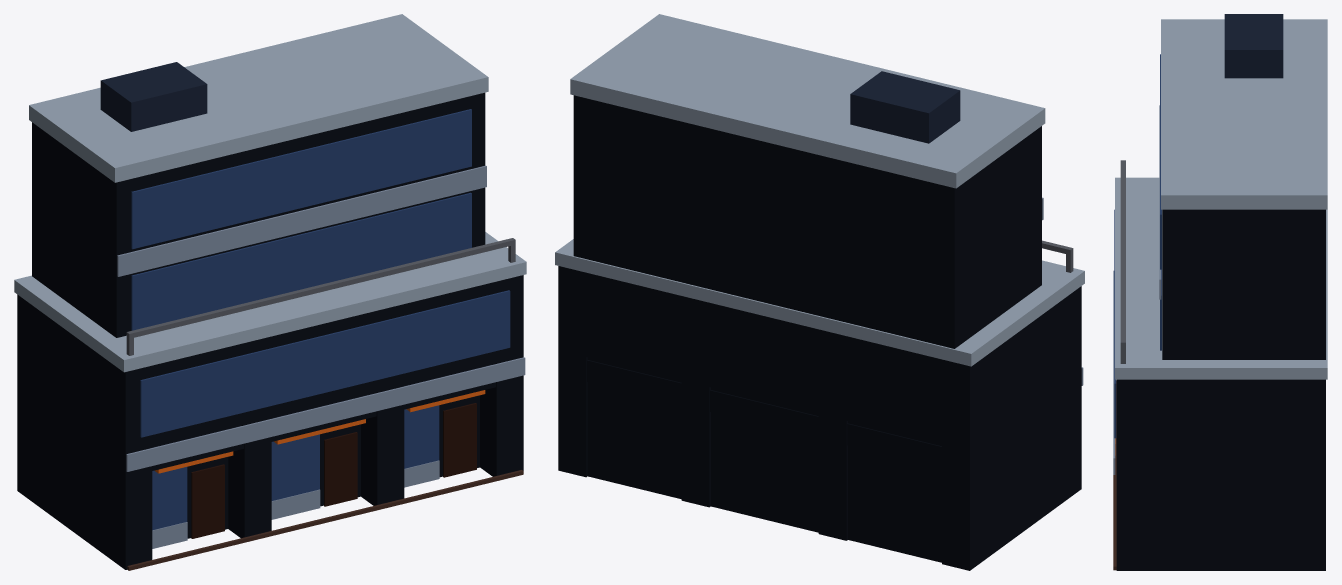
Rendered from exchange3.obj.
3 renders of one model, left to right at view 1: azimuth 30°, elevation 25°; view 2: azimuth 150°, elevation 25°; view 3: azimuth 270°, elevation 25°, orthographic. The views are drawn at different scales.
Visible parts, largest first — view 1: tower-glazing, tower-cap, base-piers, tower, podium-glazing, podium, podium-cap, spandrels, transom, shop-doors, shopfronts, roof-plant (+6 smaller); view 2: tower, podium, tower-cap, base-back, base-piers, podium-cap, base-heads, roof-plant; view 3: tower-cap, tower, base-piers, podium, podium-cap, roof-plant, terrace-rail, pavement, transom, tower-glazing, podium-glazing.
Part boxes in pixels (<box>): tower-glazing: <box>131,109,471,330</box>; tower-cap: <box>29,14,488,182</box>; base-piers: <box>17,356,523,569</box>; tower: <box>32,92,485,337</box>; podium-glazing: <box>140,290,510,437</box>; podium: <box>17,275,523,453</box>; podium-cap: <box>14,232,526,372</box>; spandrels: <box>117,165,486,276</box>; transom: <box>126,357,525,471</box>; shop-doors: <box>191,403,476,538</box>; shopfronts: <box>152,405,439,530</box>; roof-plant: <box>100,62,207,131</box>; tower: <box>573,95,1041,348</box>; podium: <box>558,266,1081,450</box>; tower-cap: <box>570,14,1045,188</box>; base-back: <box>587,357,941,562</box>; base-piers: <box>558,350,1081,570</box>; podium-cap: <box>555,239,1084,366</box>; base-heads: <box>587,360,941,468</box>; roof-plant: <box>850,71,960,143</box>; tower-cap: <box>1161,19,1327,209</box>; tower: <box>1162,209,1325,359</box>; base-piers: <box>1116,458,1325,570</box>; podium: <box>1116,379,1325,458</box>; podium-cap: <box>1115,177,1327,379</box>; roof-plant: <box>1224,14,1283,78</box>; terrace-rail: <box>1120,160,1125,363</box>; pavement: <box>1113,380,1116,570</box>; transom: <box>1113,270,1115,474</box>; tower-glazing: <box>1160,54,1161,350</box>; podium-glazing: <box>1114,209,1116,438</box>.
Size of the model in its own units: 6.88 by 6.72 by 3.27.
